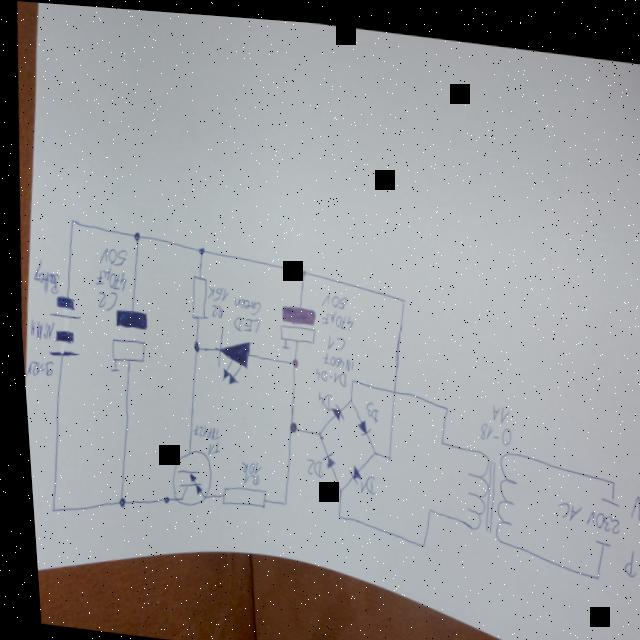capacitor: (100, 304, 148, 376), (272, 297, 315, 350)
crossover: (386, 383, 392, 389)
diode: (208, 322, 251, 386), (341, 459, 359, 482), (315, 446, 332, 467), (323, 397, 340, 418), (350, 412, 366, 434)
junction: (108, 492, 122, 509), (281, 415, 292, 431), (187, 337, 197, 351), (129, 228, 139, 242), (284, 353, 295, 365), (295, 263, 305, 274), (193, 244, 203, 254), (156, 493, 165, 502), (586, 564, 594, 573), (66, 216, 74, 225), (42, 506, 50, 514), (437, 399, 444, 408), (433, 432, 440, 440), (343, 394, 350, 402), (604, 471, 611, 479), (331, 481, 338, 488), (275, 495, 281, 503), (330, 508, 336, 516), (414, 536, 420, 544), (311, 426, 317, 434), (397, 292, 403, 300), (365, 445, 371, 452), (420, 501, 425, 508), (381, 450, 385, 456)
resistor: (215, 481, 261, 508), (184, 271, 207, 320)
source: (39, 291, 82, 359)
terminal: (596, 485, 614, 501), (585, 528, 607, 541)
text: (550, 491, 616, 529), (26, 256, 57, 296), (88, 263, 125, 296), (472, 416, 507, 440), (316, 305, 351, 328), (613, 535, 633, 571), (19, 357, 50, 380), (93, 243, 125, 265), (24, 317, 51, 343), (316, 348, 350, 368), (310, 362, 344, 382), (228, 310, 258, 332), (90, 287, 115, 313), (228, 292, 256, 313), (483, 395, 507, 419), (186, 421, 215, 440), (315, 288, 345, 306), (623, 484, 640, 515), (298, 452, 320, 475), (349, 467, 370, 491), (203, 282, 226, 301), (232, 455, 256, 472), (321, 331, 343, 349), (311, 385, 329, 407), (235, 468, 257, 485), (359, 397, 374, 419), (205, 300, 220, 316), (199, 439, 215, 452)
transformer: (448, 434, 519, 541)
transistor: (162, 440, 208, 505)
